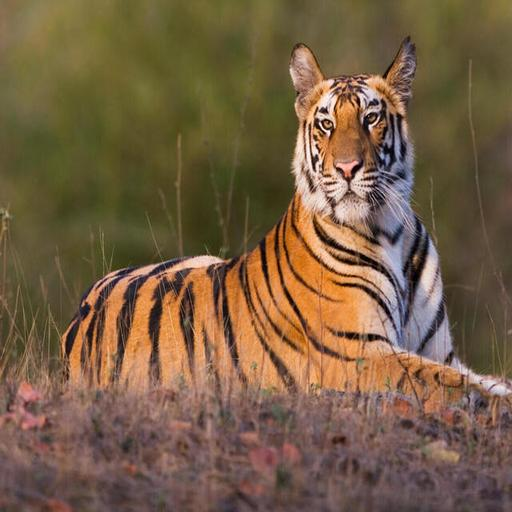Tiger: (39, 19, 512, 446)
